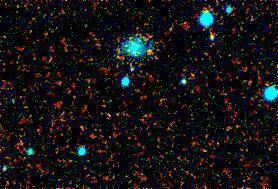star: (133, 37, 163, 67)
